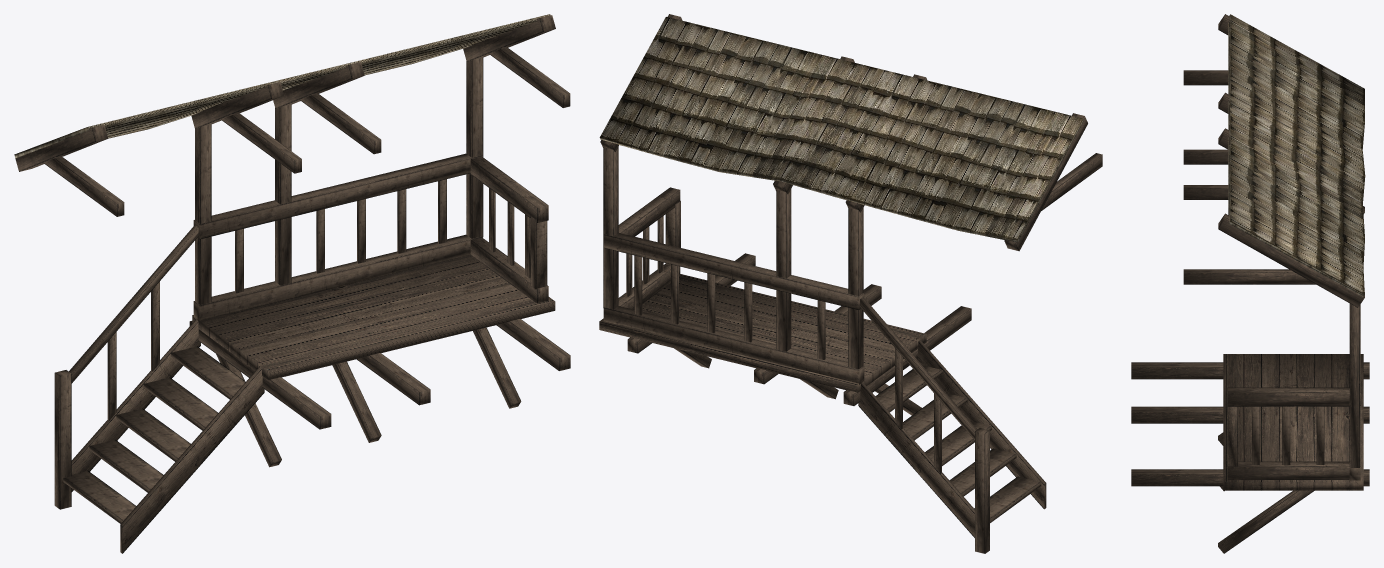
Rendered from stairs balcony.dae.
3 renders of one model, left to right at view 1: azimuth 30°, elevation 25°; view 2: azimuth 150°, elevation 25°; view 3: azimuth 270°, elevation 25°, orthographic. The views are drawn at different scales.
Parts seen in each view (by area): view 1: meshU3D; view 2: meshU3D; view 3: meshU3D.
Part boxes in pixels (x1,y1,x2,y2): meshU3D: (14, 14, 570, 553); meshU3D: (599, 14, 1102, 553); meshU3D: (1131, 14, 1369, 553).
Size of the model in its own units: 6.85 by 6.23 by 3.33.
